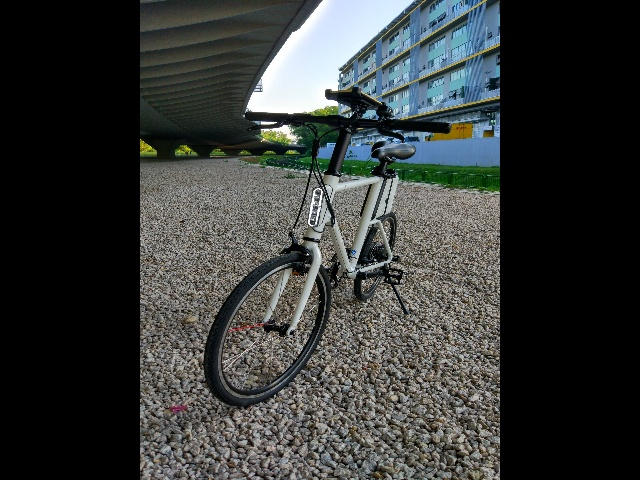bike: (203, 82, 452, 417)
